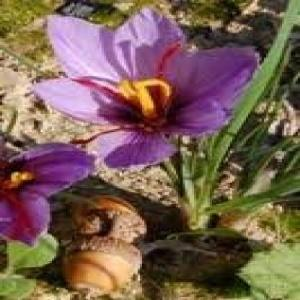Saffron: (35, 9, 260, 170), (2, 141, 98, 247)
